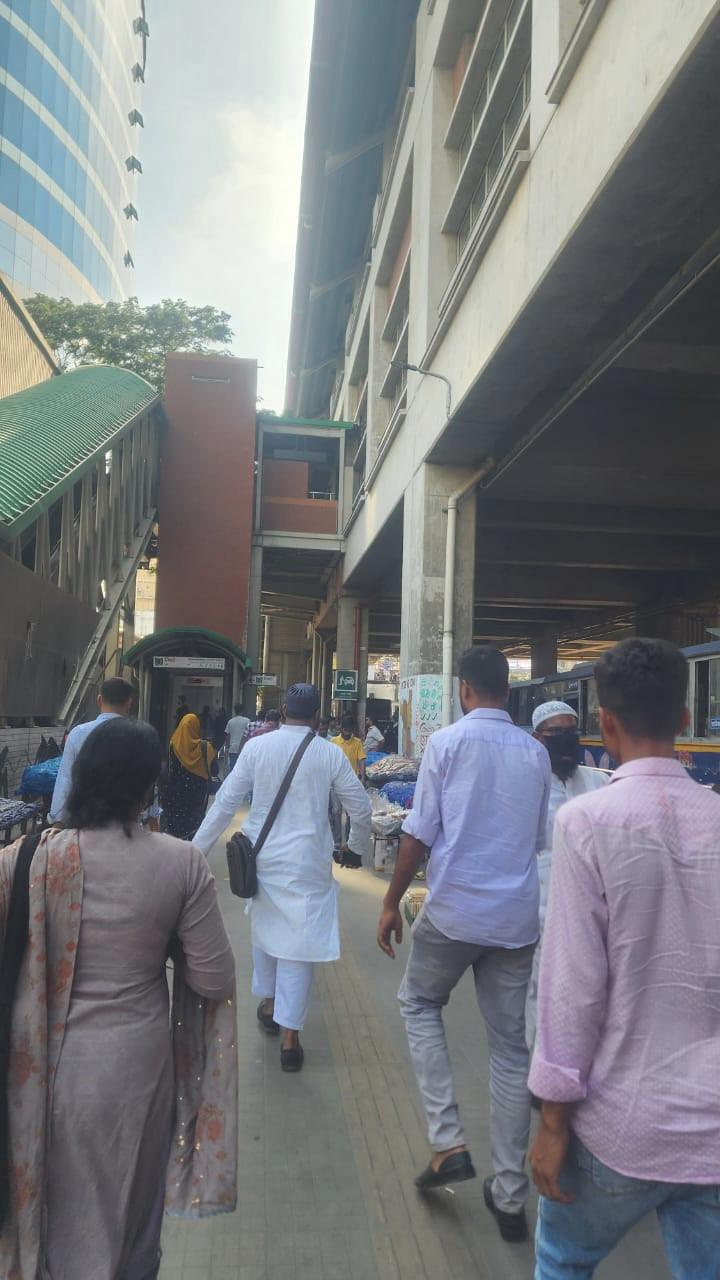Metro Dorp Up Pick up: (324, 662, 366, 716)
